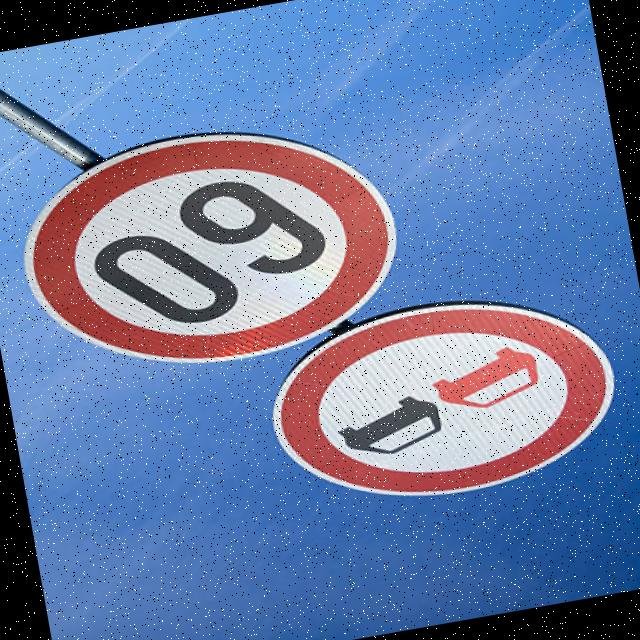no_passing: (247, 267, 640, 542)
